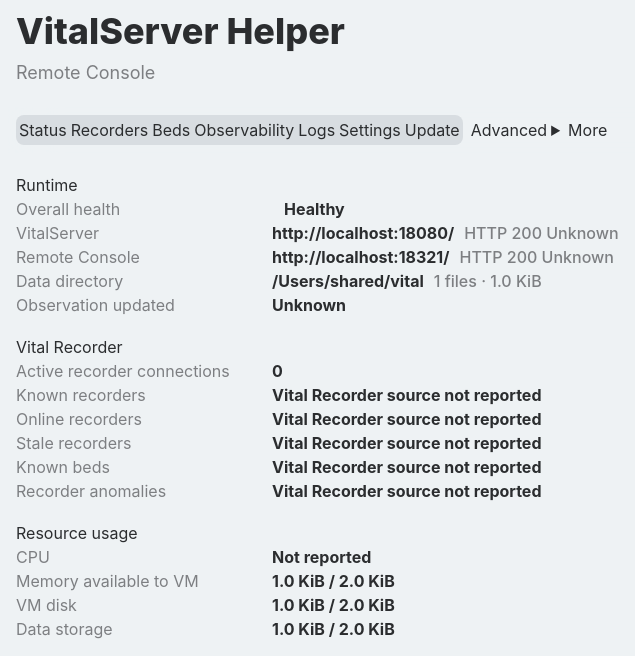
App › hides TestKit routes when the helper capability is unavailable
The width and height of the screenshot is (635, 656).
expect the text "Overall health" is shown: met, box [16, 199, 120, 219]
Click the heading "More": point(588, 130) [568, 120, 607, 140]
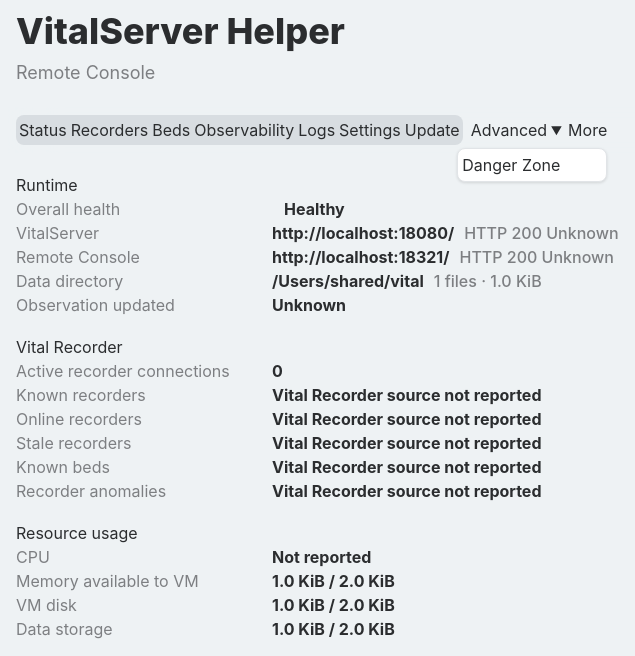
expect the link "Danger Zone" is shown: met, box [462, 155, 560, 175]
